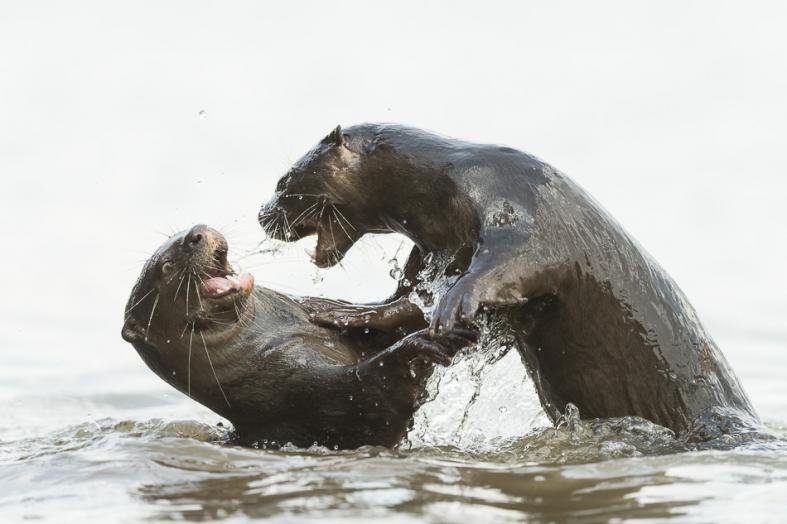otter: (252, 113, 757, 423), (112, 216, 488, 449)
